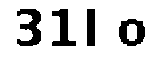1: (47, 5, 78, 52)
3: (10, 7, 43, 51)
I: (82, 6, 108, 53)
o: (113, 15, 153, 52)
